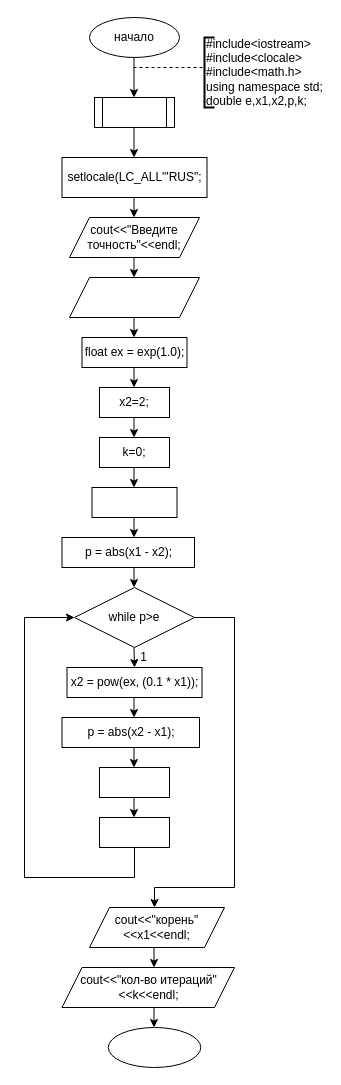
Image size: 341x1085. Some labels were removed from this diagram. Each missing label, with the centre of its shape:
cin>>e;: (134,297)
int main(): (134,112)
k++;: (134,832)
return0;: (154,1047)
x1 = (2 + 1) / 2;: (134,502)
x1=x2;: (134,782)
